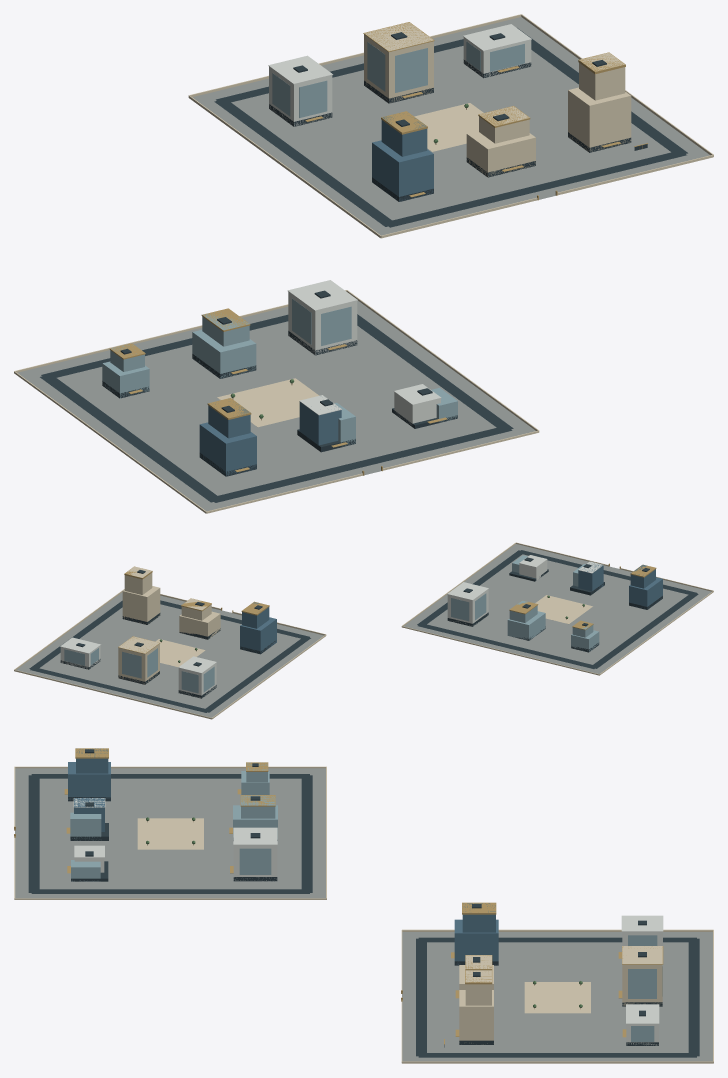
File: GC-TILE-01-04.glb
3 renders of one model, top to bottom at view 1: azimuth 30°, elevation 25°; view 2: azimuth 150°, elevation 25°; view 3: azimuth 270°, elevation 25°, orthographic. The views are drawn at different scales.
Parts seen in each view (by area): view 1: GC-TILE-01-04-paving, GC-TILE-01-04-ivory, GC-TILE-01-04-dark, GC-TILE-01-04-glass, GC-TILE-01-04-white, GC-TILE-01-04-blue, GC-TILE-01-04-gold; view 2: GC-TILE-01-04-paving, GC-TILE-01-04-ivory, GC-TILE-01-04-dark, GC-TILE-01-04-glass, GC-TILE-01-04-white, GC-TILE-01-04-blue, GC-TILE-01-04-gold; view 3: GC-TILE-01-04-paving, GC-TILE-01-04-dark, GC-TILE-01-04-ivory, GC-TILE-01-04-glass, GC-TILE-01-04-blue, GC-TILE-01-04-white, GC-TILE-01-04-gold.
Boxes of the visible parts, <box> form: GC-TILE-01-04-paving: <box>17,17,709,511</box>; GC-TILE-01-04-ivory: <box>14,14,713,513</box>; GC-TILE-01-04-dark: <box>40,28,687,502</box>; GC-TILE-01-04-glass: <box>102,41,524,446</box>; GC-TILE-01-04-white: <box>268,24,531,426</box>; GC-TILE-01-04-blue: <box>199,113,433,476</box>; GC-TILE-01-04-gold: <box>109,22,647,475</box>; GC-TILE-01-04-paving: <box>16,544,711,717</box>; GC-TILE-01-04-ivory: <box>14,542,713,719</box>; GC-TILE-01-04-dark: <box>29,550,698,712</box>; GC-TILE-01-04-glass: <box>64,555,599,693</box>; GC-TILE-01-04-white: <box>60,555,603,697</box>; GC-TILE-01-04-blue: <box>240,563,662,653</box>; GC-TILE-01-04-gold: <box>118,563,656,653</box>; GC-TILE-01-04-paving: <box>15,768,712,1061</box>; GC-TILE-01-04-dark: <box>28,749,699,1057</box>; GC-TILE-01-04-ivory: <box>14,766,713,1063</box>; GC-TILE-01-04-glass: <box>70,762,662,1041</box>; GC-TILE-01-04-blue: <box>68,748,498,965</box>; GC-TILE-01-04-white: <box>73,798,663,1045</box>; GC-TILE-01-04-gold: <box>14,748,663,1044</box>.
Bounding box in the file's own units: 759 × 75.29 × 760.
